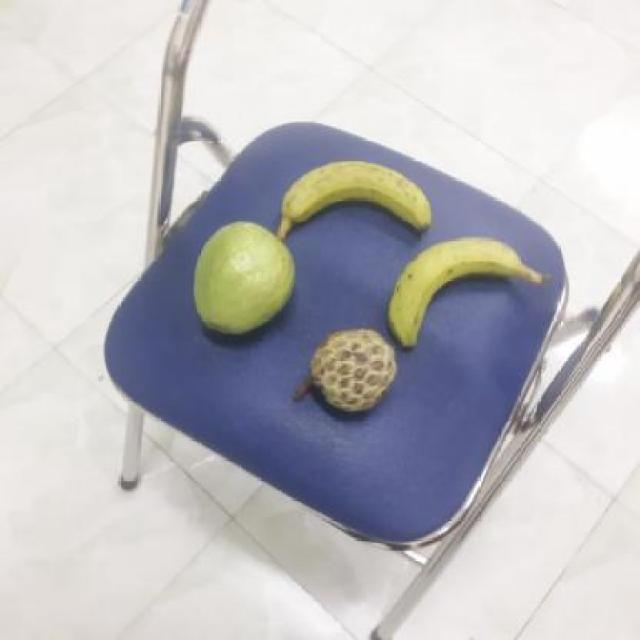banana: (380, 238, 514, 350), (276, 162, 432, 242)
guava: (190, 222, 298, 336)
sugar apple: (293, 328, 396, 410)
